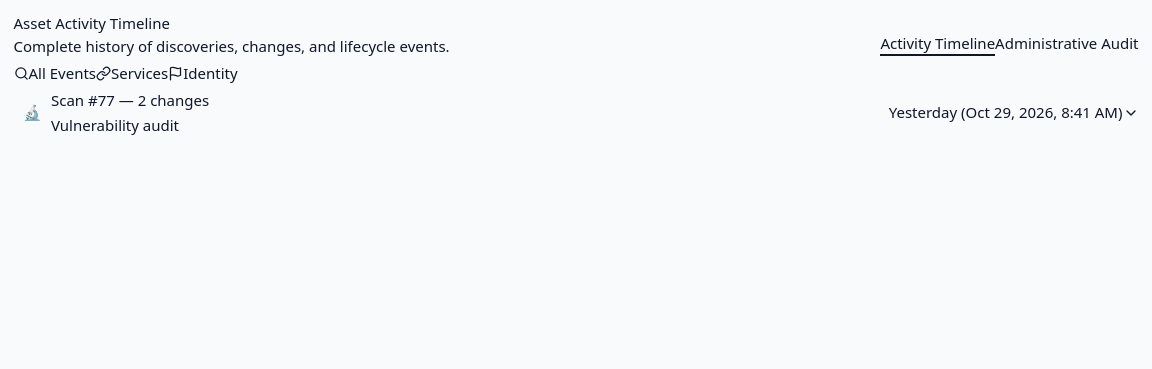
Test: AuditTimeline — administrative view › lists administrative actions with their outcome
This screenshot has width=1152, height=369.
Click the tab "Administrative Audit" at (1067, 44), box [995, 32, 1138, 56]
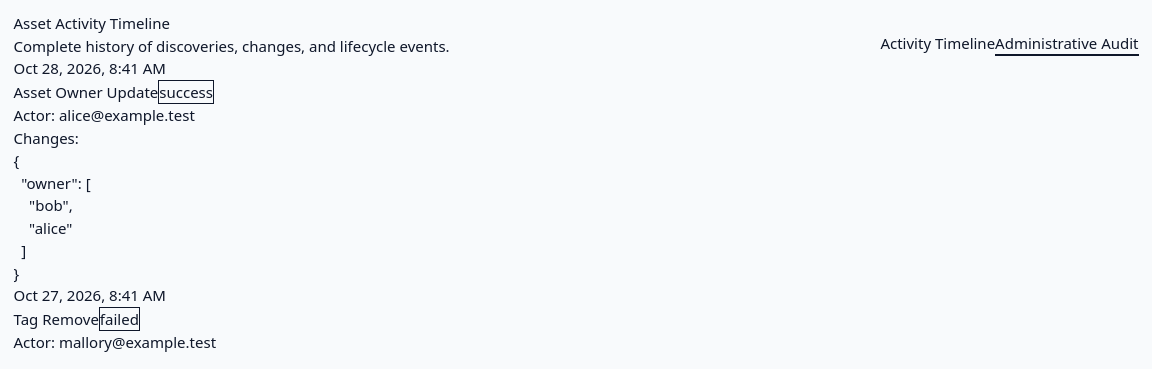
Check: the text "Asset Owner Update" is shown, box [14, 82, 158, 102]
Check: the text "Tag Remove" is shown, box [14, 308, 99, 328]
Check: the text "success" is shown, box [158, 80, 214, 104]
